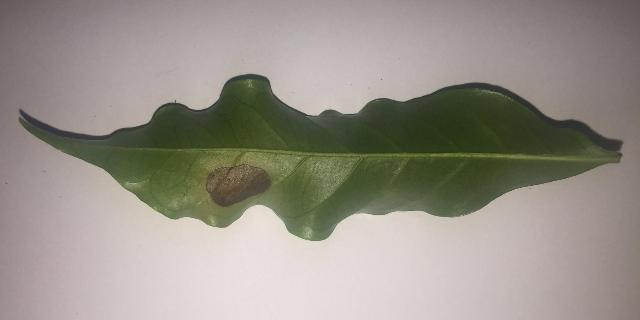cercospora: (206, 164, 271, 206)
